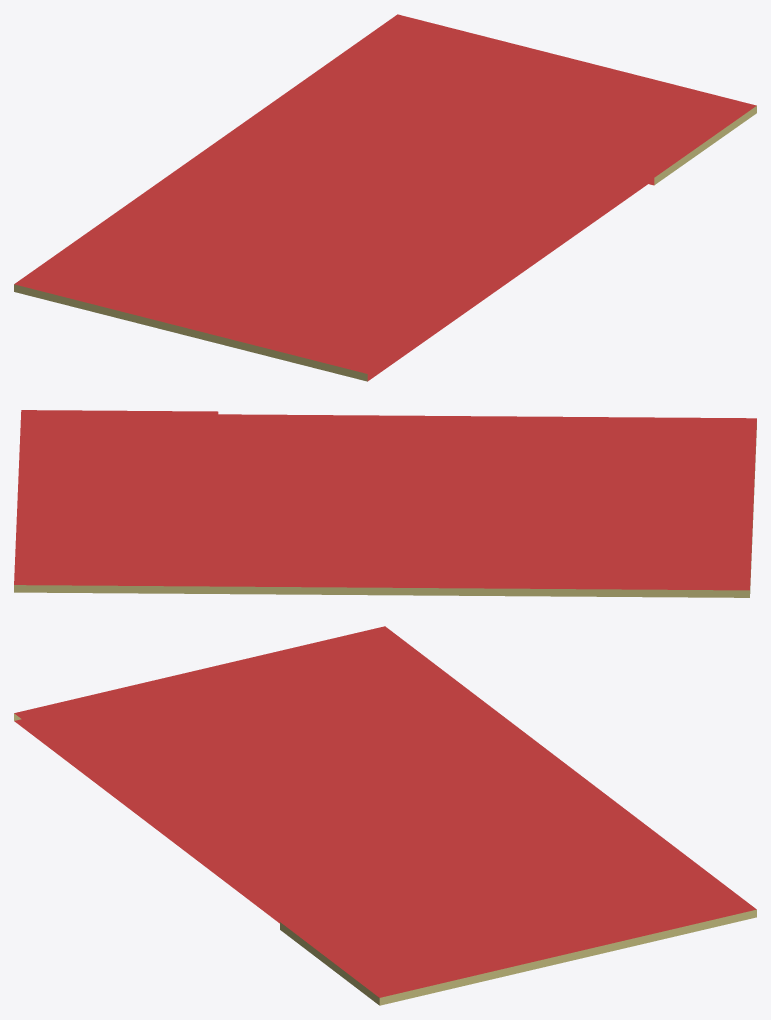
The picture shows the model from 3 angles, top to bottom: view 1: azimuth 30°, elevation 25°; view 2: azimuth 150°, elevation 25°; view 3: azimuth 270°, elevation 25°; orthographic projection. The views are drawn at different scales.
Bounding box in the file's own units: 10.18 × 8.6 × 0.1.
